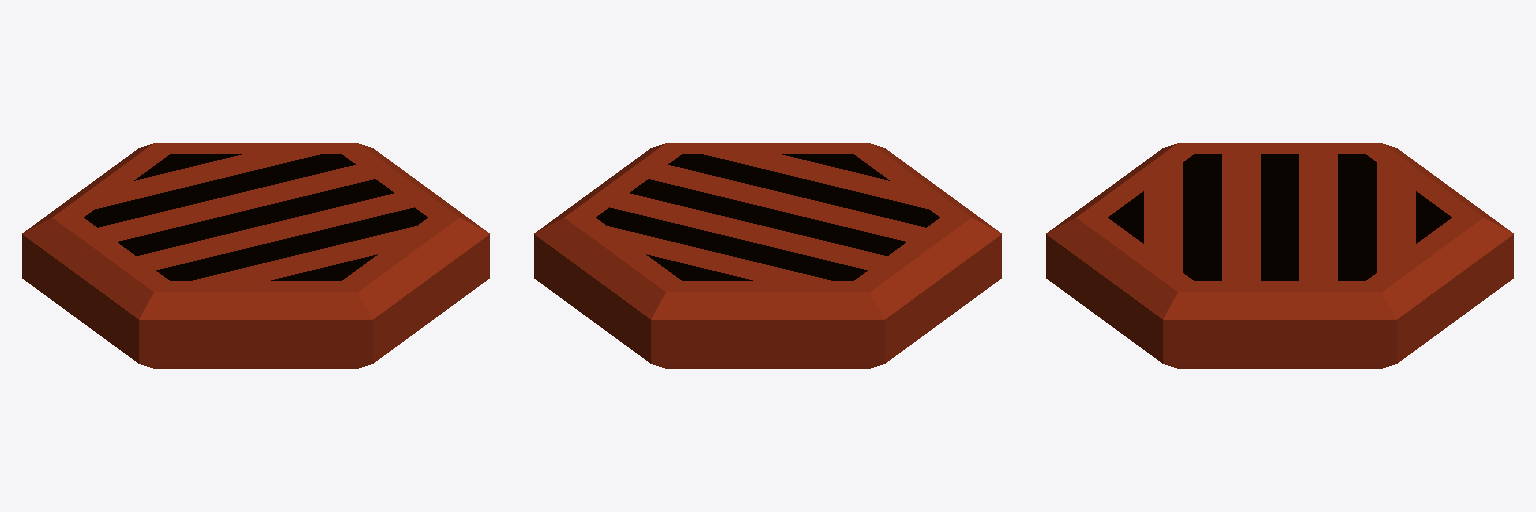
File: meatPatty.obj
3 renders of one model, left to right at view 1: azimuth 30°, elevation 25°; view 2: azimuth 150°, elevation 25°; view 3: azimuth 270°, elevation 25°, orthographic.
Parts seen in each view (by area): view 1: meatPatty; view 2: meatPatty; view 3: meatPatty.
Boxes of the visible parts, x1=… form: meatPatty: x1=22, y1=143, x2=489, y2=368; meatPatty: x1=534, y1=143, x2=1001, y2=368; meatPatty: x1=1046, y1=143, x2=1513, y2=368.
Size of the model in its own units: 0.2988 by 0.0624 by 0.345.